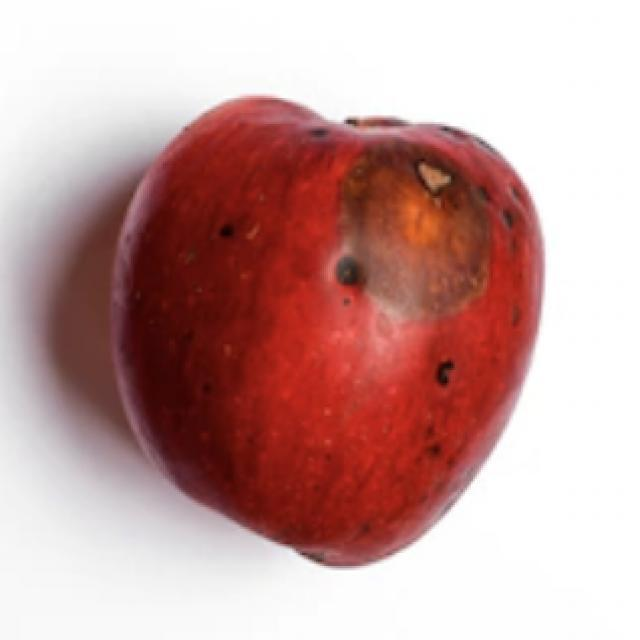Rotten: (114, 86, 544, 582)
